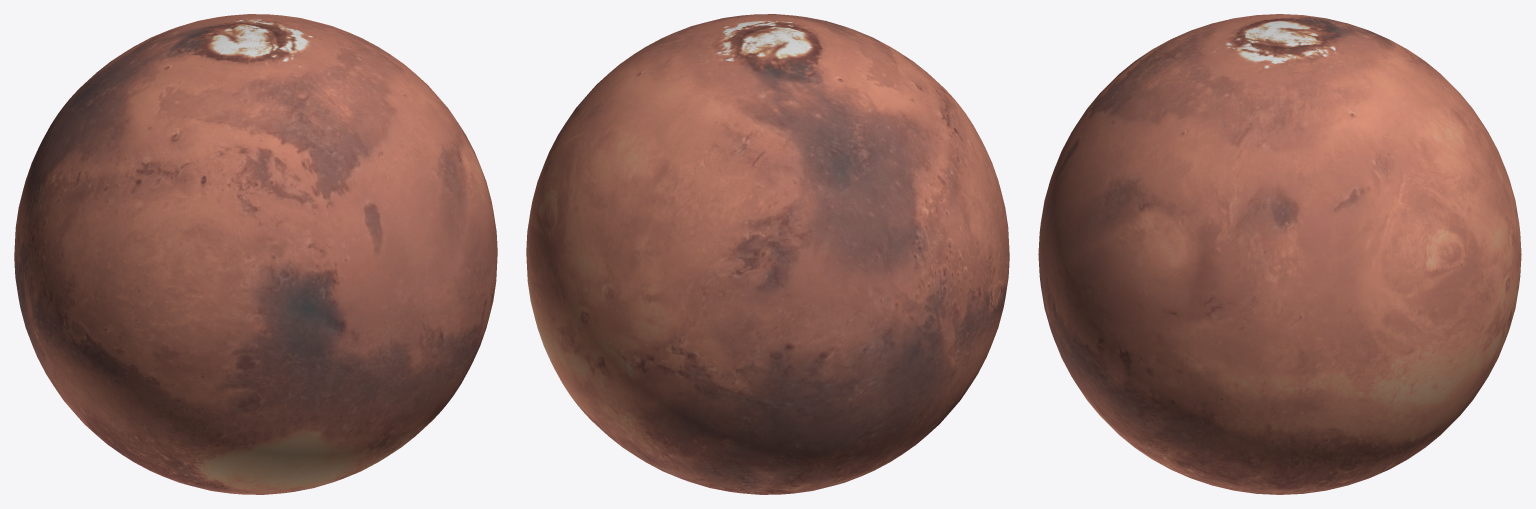
The model's file is 24881_Mars_1_6792.glb.
3 renders of one model, left to right at view 1: azimuth 30°, elevation 25°; view 2: azimuth 150°, elevation 25°; view 3: azimuth 270°, elevation 25°, orthographic.
Parts seen in each view (by area): view 1: Cube_008; view 2: Cube_008; view 3: Cube_008.
Boxes of the visible parts, x1,y1,x2,y2 form: Cube_008: (14, 14, 497, 494); Cube_008: (526, 14, 1009, 494); Cube_008: (1038, 14, 1521, 494).
Size of the model in its own units: 300 by 298 by 300.
1 material, 1 textured.
